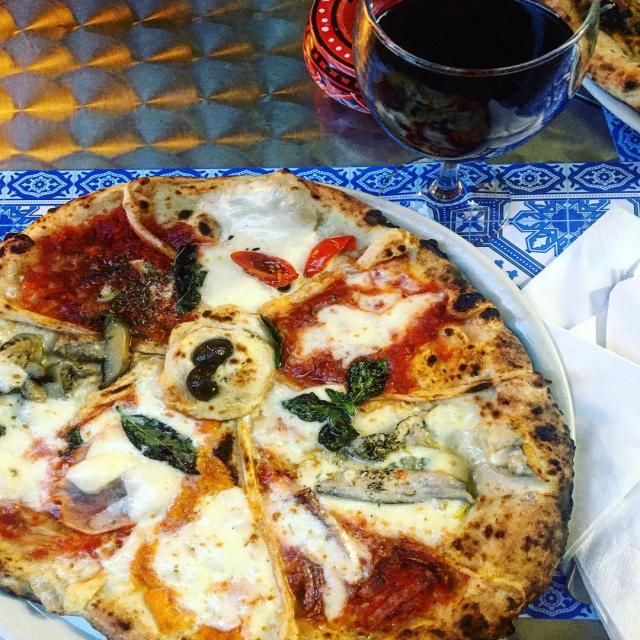basil: (279, 360, 392, 447), (114, 406, 200, 479), (174, 242, 211, 316)
pizza: (0, 169, 575, 640)
tomatoes: (230, 250, 300, 292)
